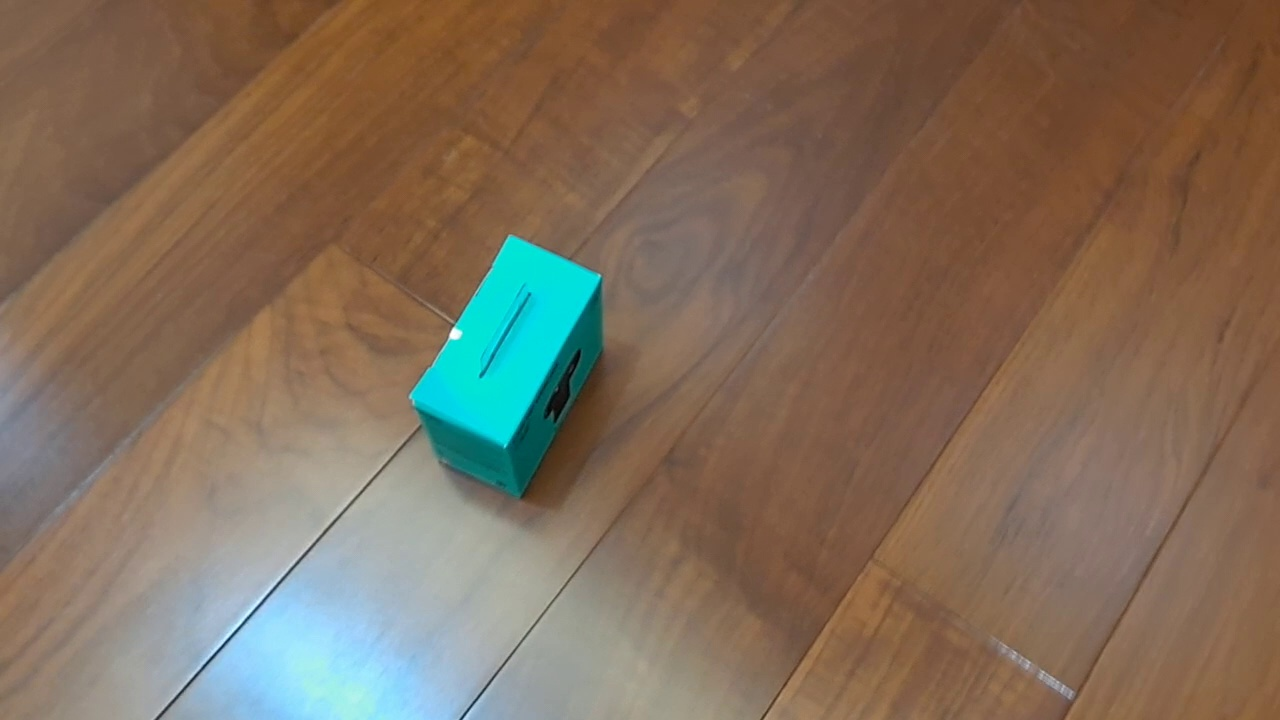webcam: (407, 233, 604, 501)
